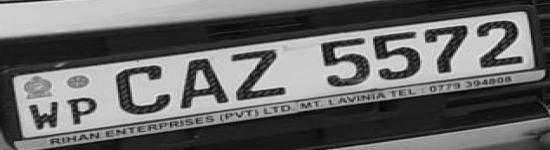2: (472, 17, 526, 73)
5: (311, 37, 372, 89), (373, 27, 421, 84)
7: (422, 25, 471, 79)
A: (176, 55, 228, 112)
C: (106, 62, 172, 117)
P: (68, 96, 103, 127)
W: (19, 99, 64, 132)
Z: (231, 47, 294, 102)
